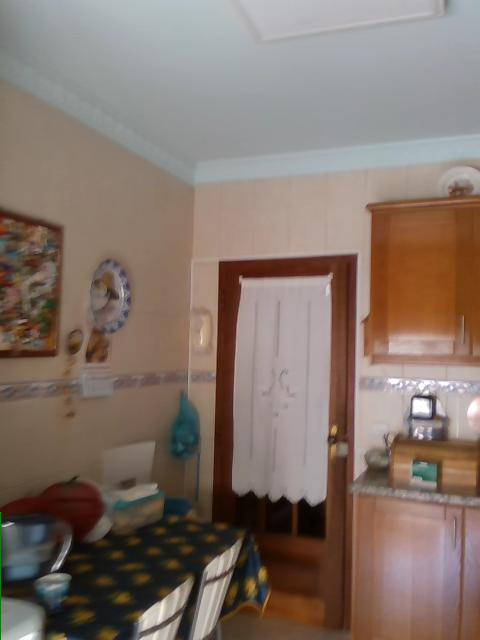door: (210, 257, 358, 630)
